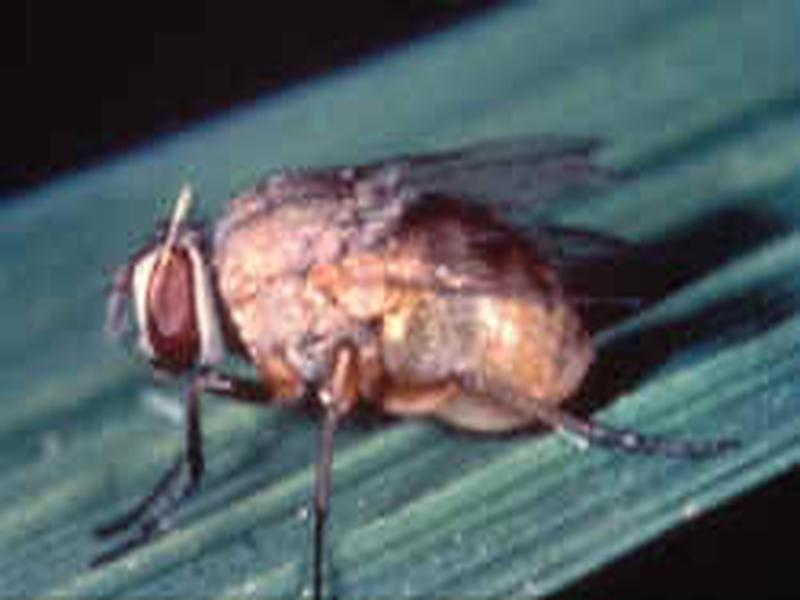Whorl_maggot: (97, 154, 623, 467)
